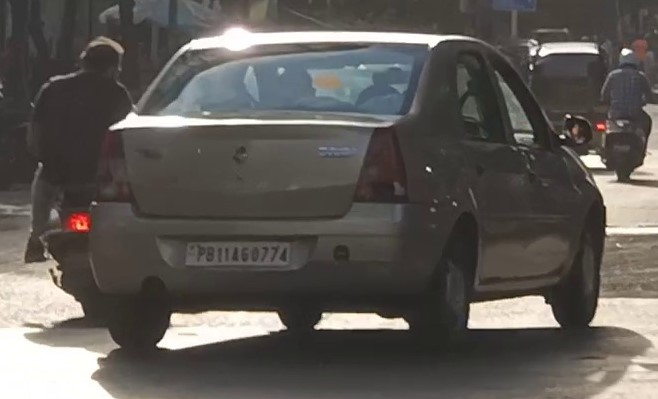PB11AG0774: (183, 240, 292, 266)
